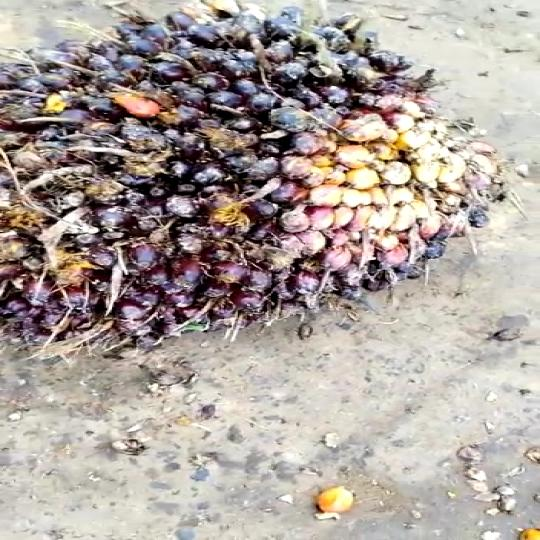mentah: (0, 0, 537, 348)
